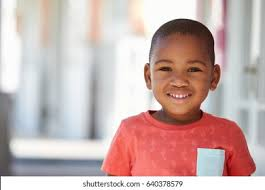person: (142, 18, 221, 118)
